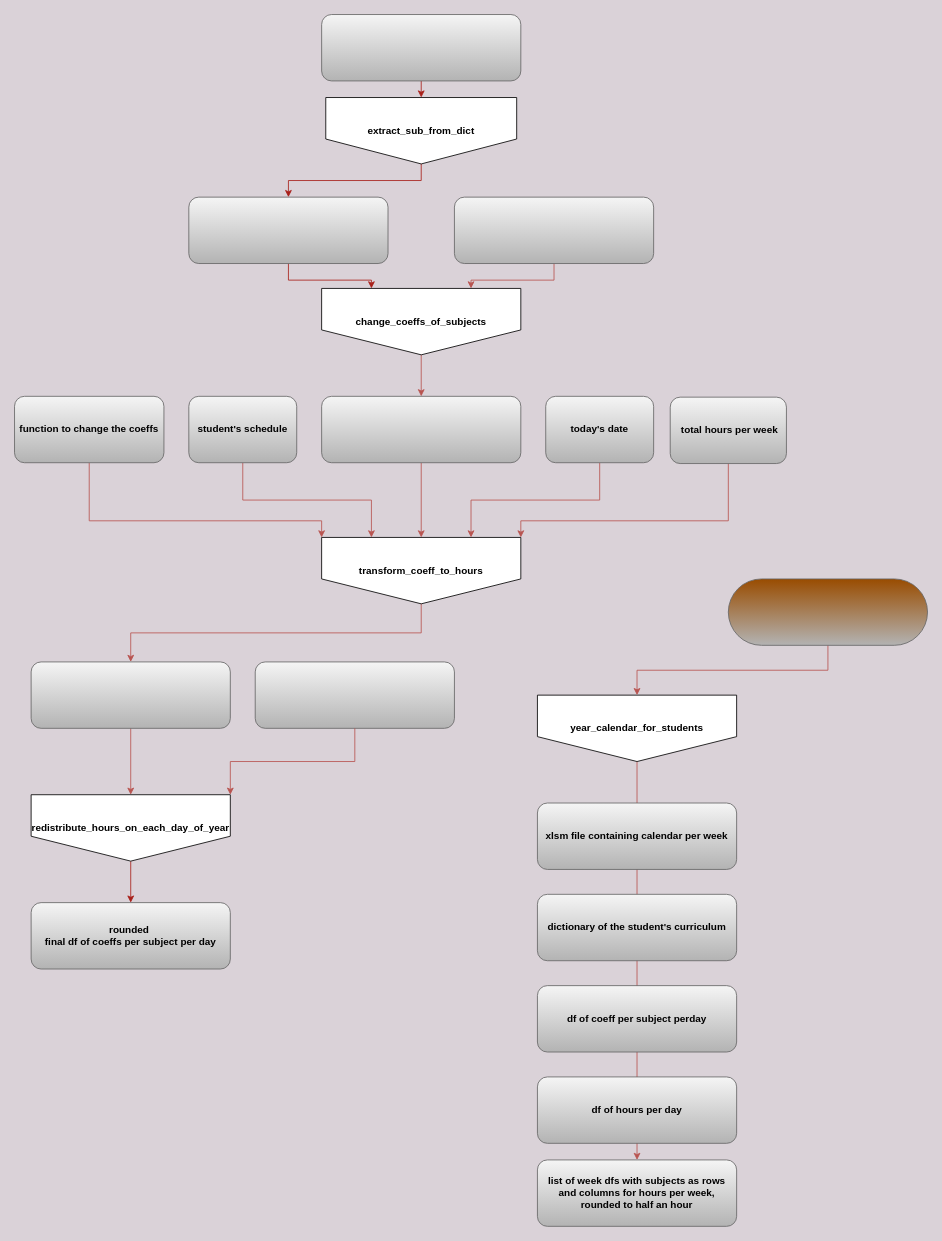
This 942x1241 diagram has some shape labels left out. Each missing label, with the centre of its shape:
dict of subj and options: [421,47]
dict of subj with coefficient: [554,230]
dict of subjects and ib_subject instance, with syllabus changed: [288,230]
dict of subjects and ib_subjects type, with coefficients changed: [421,429]
Every intial input: [827,611]
final df of coeffs per subject per day: [130,694]
minimum time interval: [354,694]
